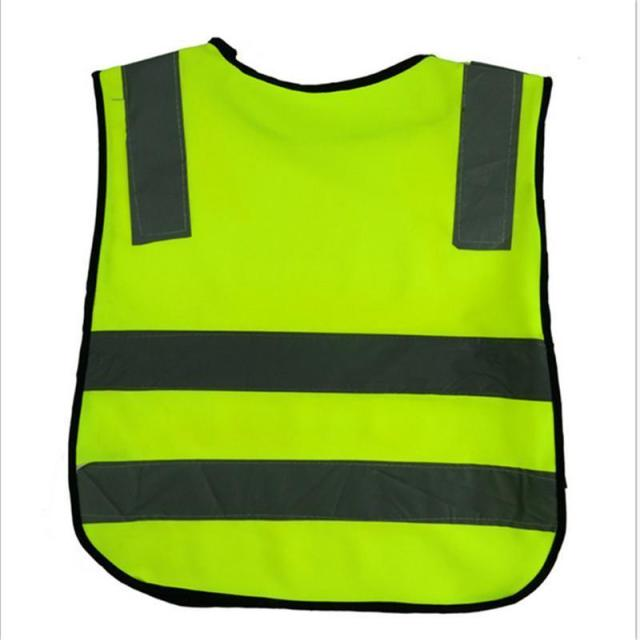Vest: (69, 21, 567, 615)
